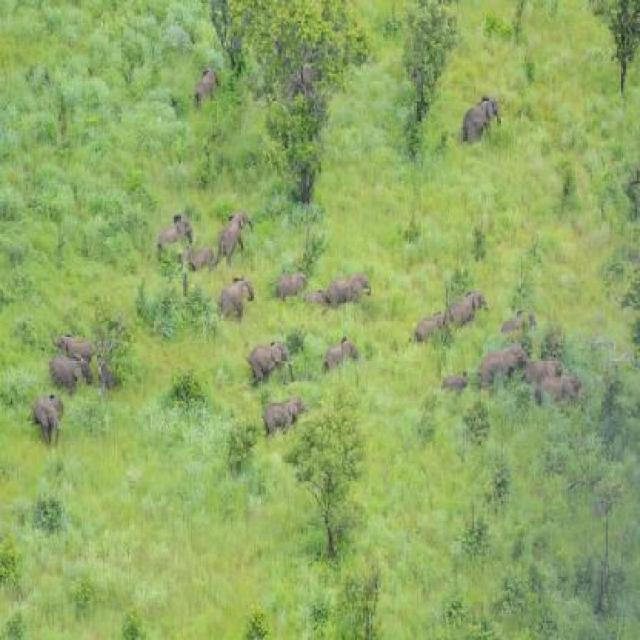elephant: (244, 392, 308, 457), (307, 274, 378, 320), (52, 319, 105, 370), (398, 291, 447, 344), (157, 203, 201, 260), (215, 271, 253, 337), (240, 328, 292, 375), (186, 59, 232, 112), (448, 286, 495, 332), (461, 93, 501, 147), (476, 340, 529, 380), (316, 336, 359, 384), (264, 250, 311, 293), (522, 338, 569, 379), (224, 202, 253, 266), (532, 368, 582, 402), (48, 348, 83, 394), (34, 397, 69, 438), (184, 241, 213, 287), (500, 299, 542, 327), (436, 366, 467, 402)
